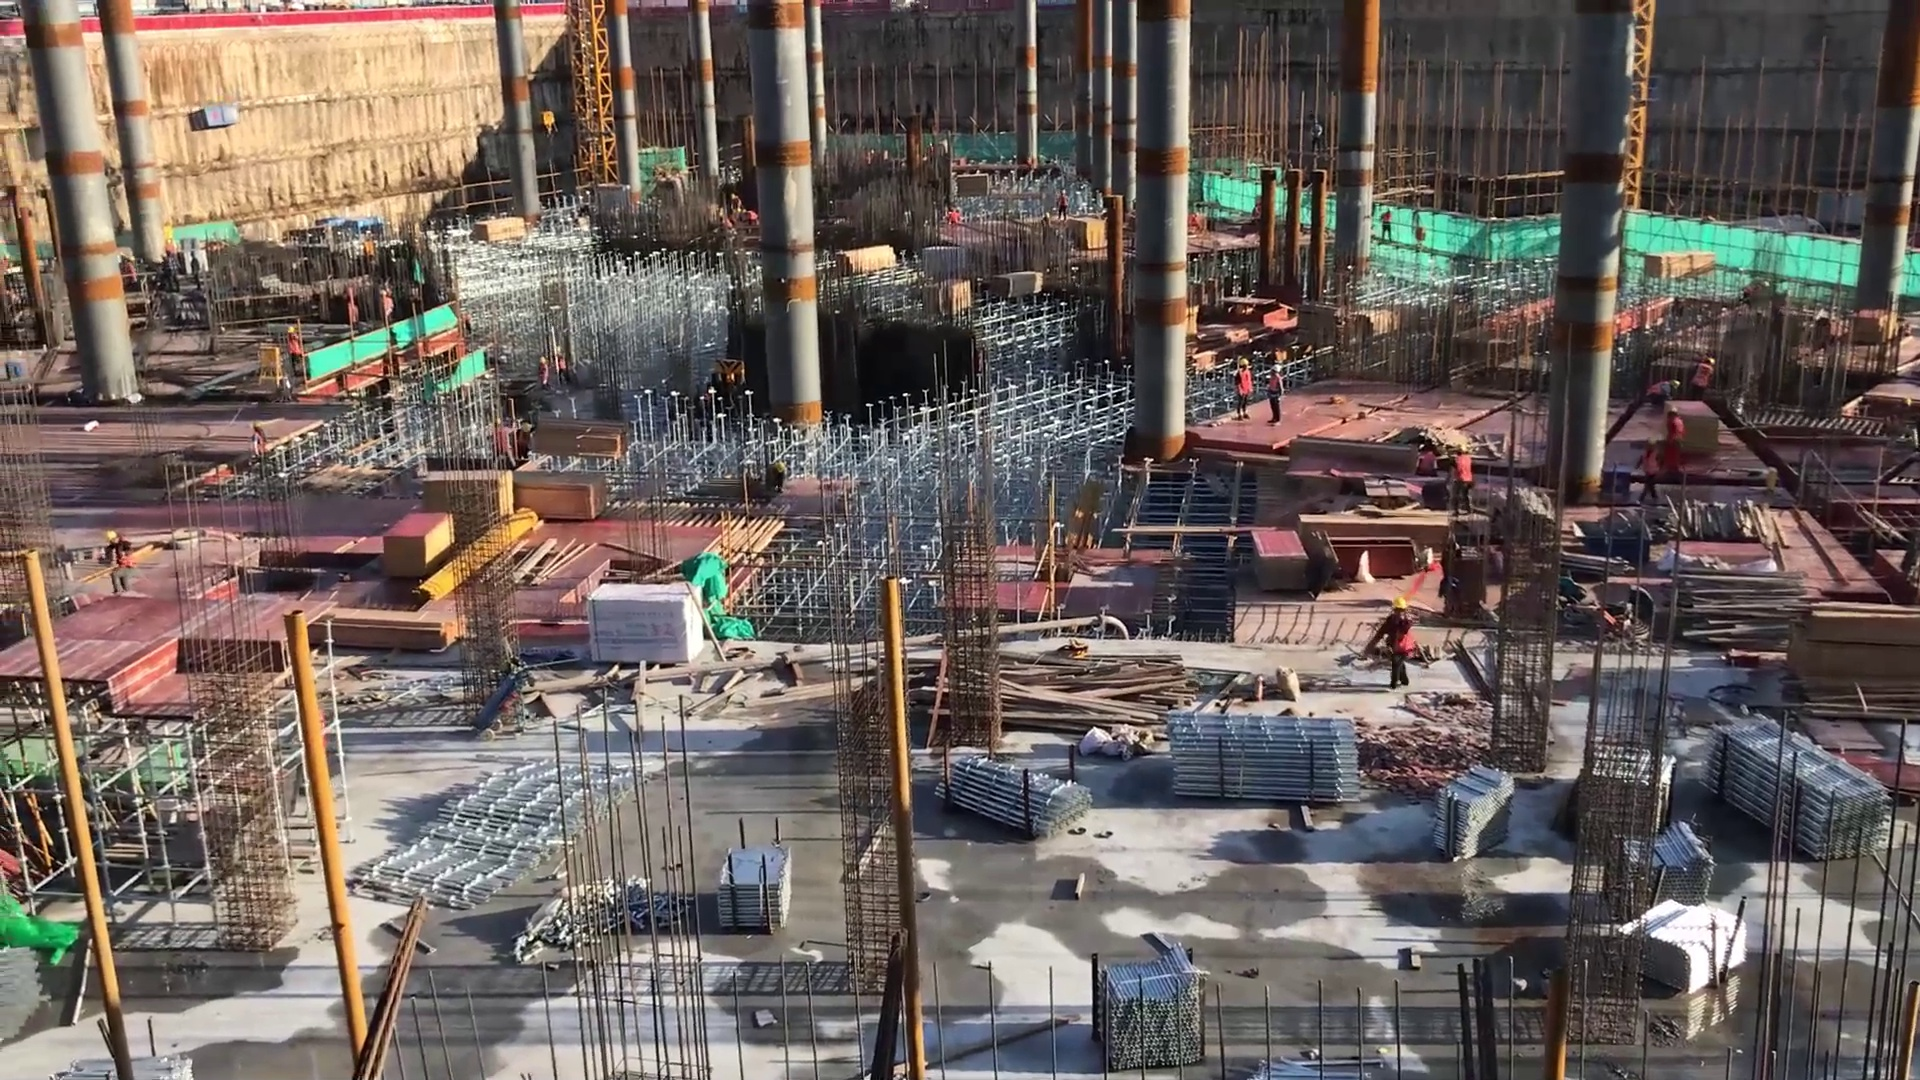board: (382, 506, 458, 581), (422, 471, 513, 530), (1251, 525, 1310, 598), (1841, 753, 1920, 806), (1074, 215, 1109, 252)
ebox: (254, 339, 285, 386)
helmet: (1390, 596, 1410, 612), (106, 526, 120, 547), (1455, 441, 1470, 457), (1268, 359, 1283, 375), (1236, 357, 1250, 371), (287, 322, 300, 334), (539, 354, 546, 365), (380, 289, 390, 296)
hook: (1574, 519, 1652, 563), (531, 102, 569, 157), (715, 356, 750, 394)
hopper: (190, 104, 241, 133)
person: (1383, 593, 1416, 698), (96, 522, 134, 608), (1446, 442, 1481, 517), (1663, 408, 1688, 473), (1636, 437, 1661, 503), (1690, 352, 1718, 412), (1264, 361, 1287, 429), (248, 415, 276, 469), (1639, 377, 1679, 413), (1231, 356, 1253, 420), (288, 324, 304, 386), (512, 424, 537, 465), (531, 354, 552, 396), (554, 350, 573, 388), (1420, 444, 1443, 476), (376, 285, 394, 323), (1377, 207, 1396, 242), (1053, 187, 1071, 222), (742, 210, 763, 229), (947, 204, 963, 229), (729, 192, 743, 217)
scaffold: (1703, 699, 1891, 891), (1161, 707, 1363, 814), (1073, 943, 1219, 1079), (936, 753, 1090, 841), (1429, 762, 1526, 871), (1613, 824, 1722, 920)
vest: (1386, 612, 1414, 656), (1452, 452, 1474, 490), (1691, 360, 1715, 391), (1267, 374, 1286, 405), (1646, 379, 1670, 401), (251, 433, 271, 458), (1643, 446, 1658, 479), (1238, 369, 1253, 399)
wood: (1778, 595, 1919, 727), (1008, 654, 1189, 738), (1677, 565, 1810, 661), (306, 605, 467, 656), (1301, 508, 1451, 556), (510, 468, 613, 524), (539, 419, 634, 460), (1643, 248, 1715, 283), (836, 242, 897, 279), (474, 207, 525, 250), (989, 268, 1050, 301)
